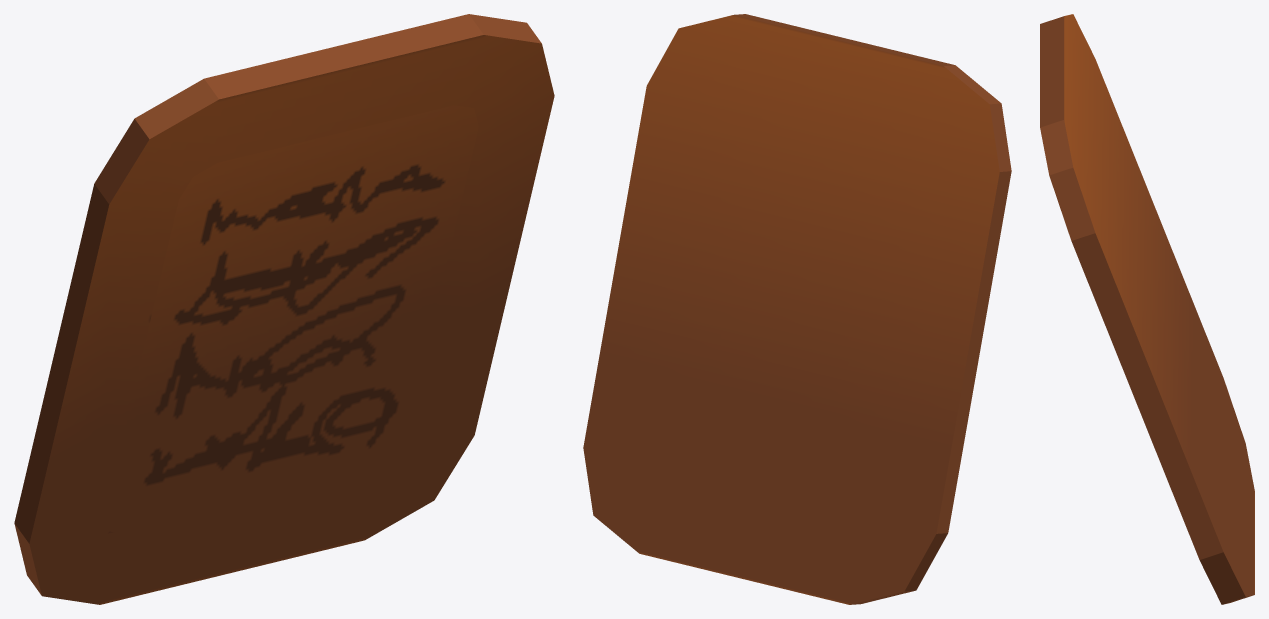
Rendered from HCClaytabletwrittenOpen.fbx.
3 views of the same model, side by side, from view 1: azimuth 30°, elevation 25°; view 2: azimuth 150°, elevation 25°; view 3: azimuth 270°, elevation 25° (orthographic). The views are drawn at different scales.
Parts seen in each view (by area): view 1: Cube.245; view 2: Cube.245; view 3: Cube.245.
Boxes of the visible parts, box(x1,y1,x2,y2) form: Cube.245: box(14, 14, 554, 604); Cube.245: box(583, 14, 1011, 604); Cube.245: box(1040, 14, 1254, 604).
Bounding box in the file's own units: 0.1575 × 0.2036 × 0.0821.
